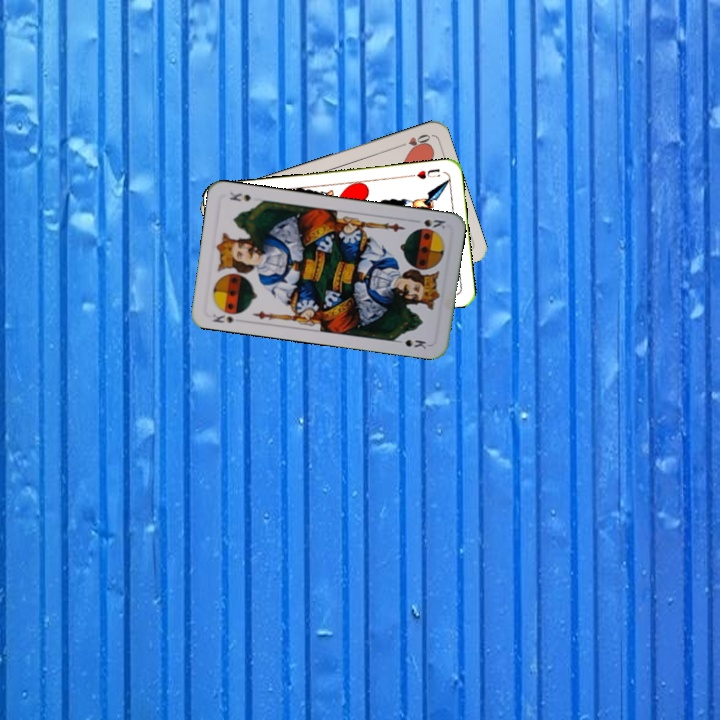HO: (394, 130, 433, 151)
HU: (405, 164, 442, 182)
SK: (409, 213, 449, 232), (209, 310, 237, 326)
